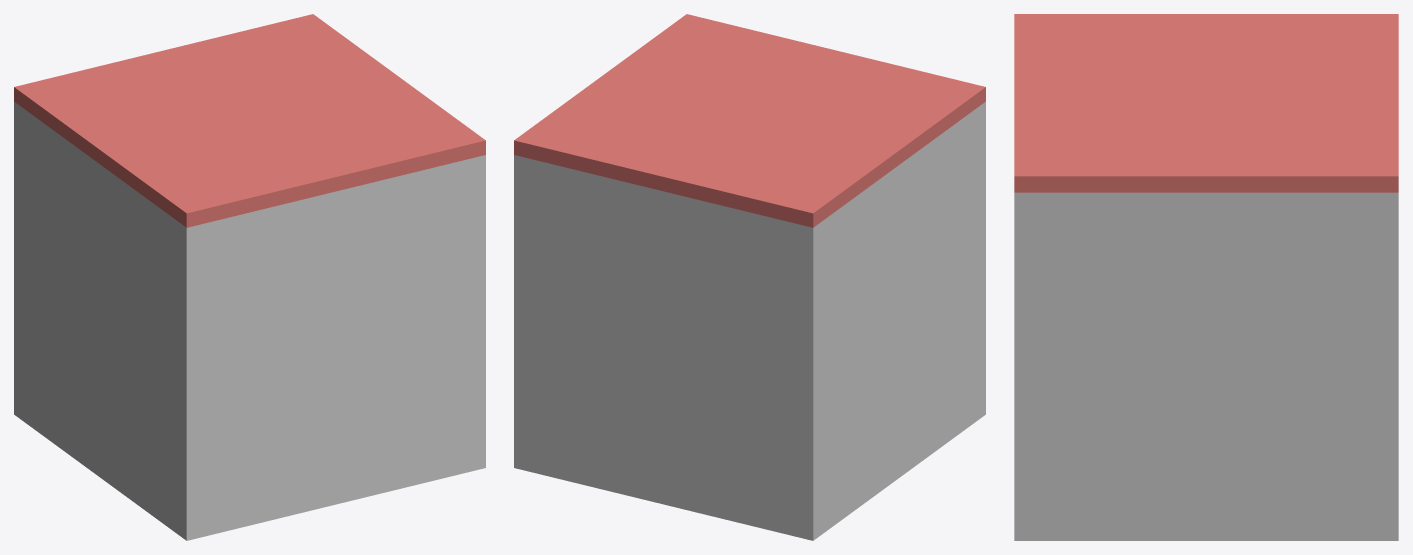
File: counter.glb
3 views of the same model, side by side, from view 1: azimuth 30°, elevation 25°; view 2: azimuth 150°, elevation 25°; view 3: azimuth 270°, elevation 25° (orthographic). The views are drawn at different scales.
Visible parts, largest first — view 1: Cube; view 2: Cube; view 3: Cube.
Boxes of the visible parts, left/top/right/bottom form: Cube: left=14, top=14, right=485, bottom=540; Cube: left=514, top=14, right=985, bottom=540; Cube: left=1014, top=14, right=1398, bottom=540.
Size of the model in its own units: 0.8637 by 0.9036 by 0.8637.
